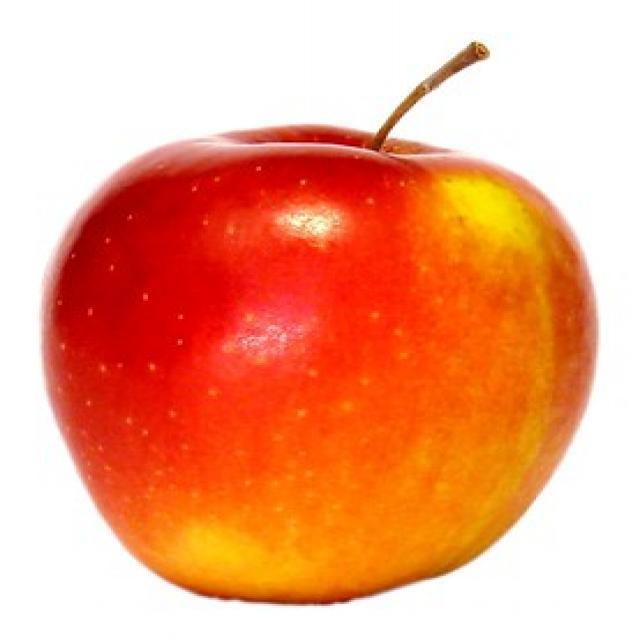Apple: (43, 36, 598, 606)
